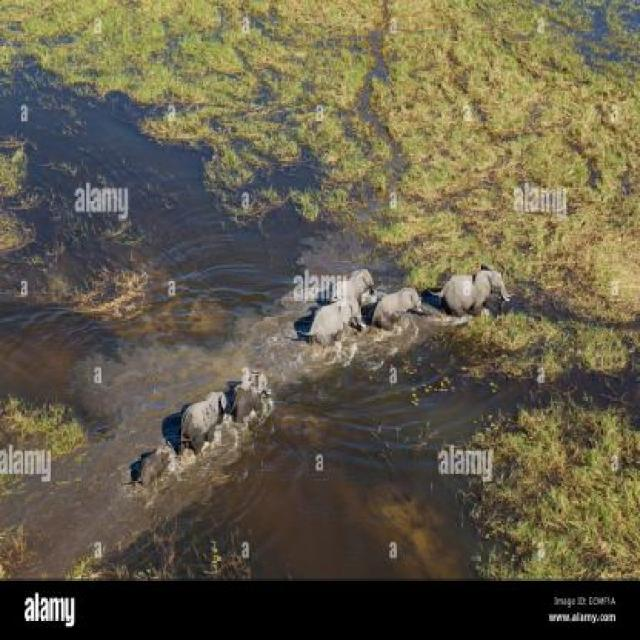elephant: (440, 252, 518, 314), (172, 374, 237, 435), (232, 365, 280, 437), (328, 246, 379, 306), (372, 278, 430, 328), (314, 292, 366, 346), (143, 428, 172, 500)
